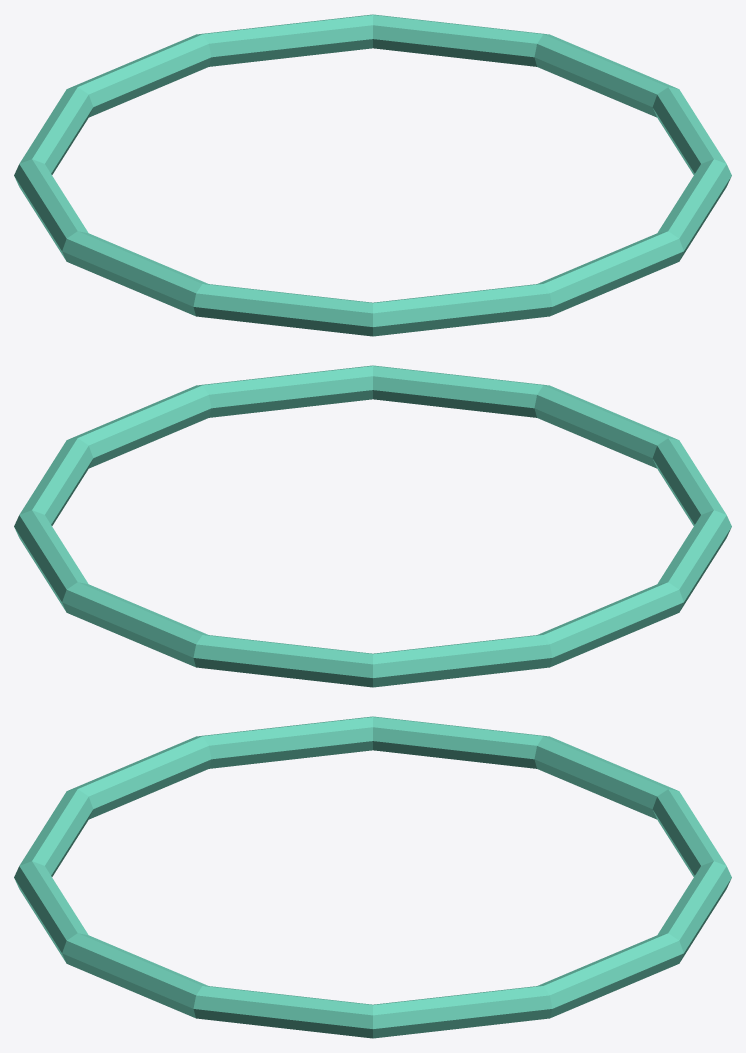
The model's file is hulahoop.fbx.
The picture shows the model from 3 angles, top to bottom: view 1: azimuth 30°, elevation 25°; view 2: azimuth 150°, elevation 25°; view 3: azimuth 270°, elevation 25°; orthographic projection.
Parts seen in each view (by area): view 1: Torus; view 2: Torus; view 3: Torus.
Part boxes in pixels (x1,y1,x2,y2): Torus: (14,14,731,336); Torus: (14,365,731,687); Torus: (14,716,731,1038).
Size of the model in its own units: 107 by 5.4 by 107.
